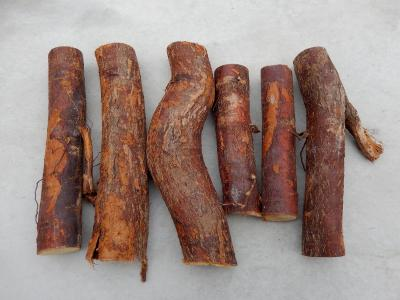Root: (86, 41, 347, 281), (37, 47, 93, 254)
